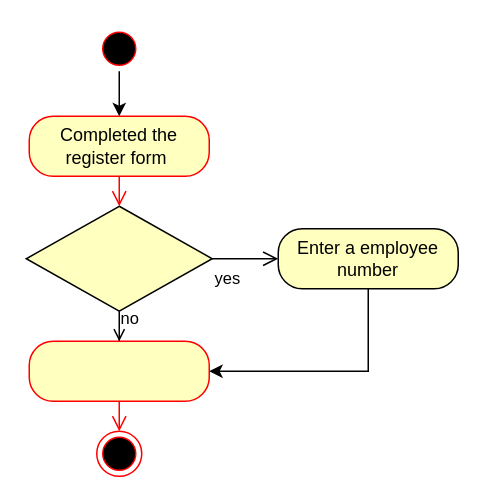
Some shapes in this 485 by 503 pixel diagram are drawn without their labels. The shapes that lost their labels are listed below. From the top down, each one's centre as x and y in pixels, then its label:
At pixel 118 258: "if the user is a employee".
At pixel 118 370: "Create the user and save the data typed".
